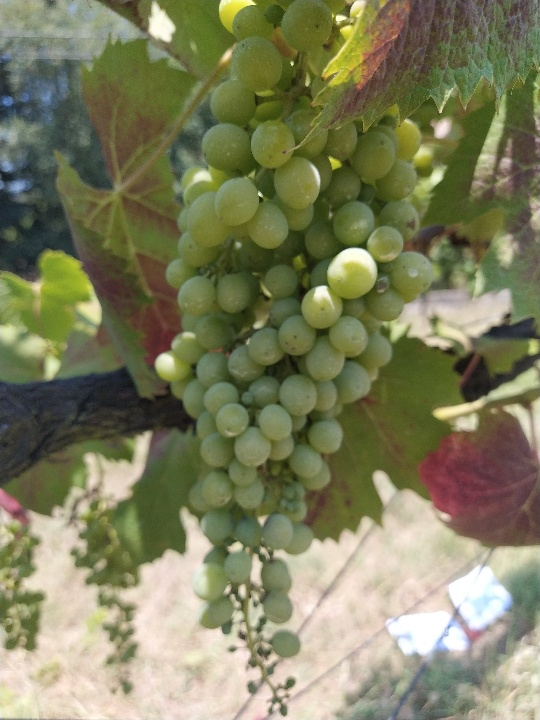grape: (153, 4, 436, 717)
